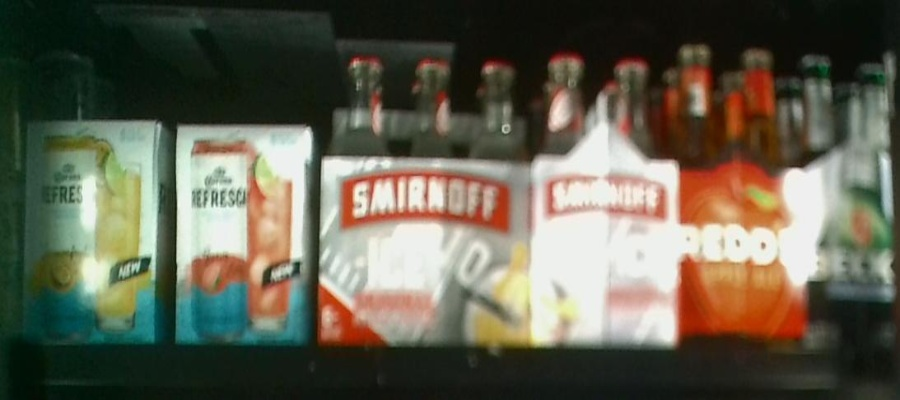bottle: (323, 58, 532, 350), (533, 55, 676, 356), (676, 43, 807, 342), (19, 118, 173, 344), (174, 123, 317, 339)
